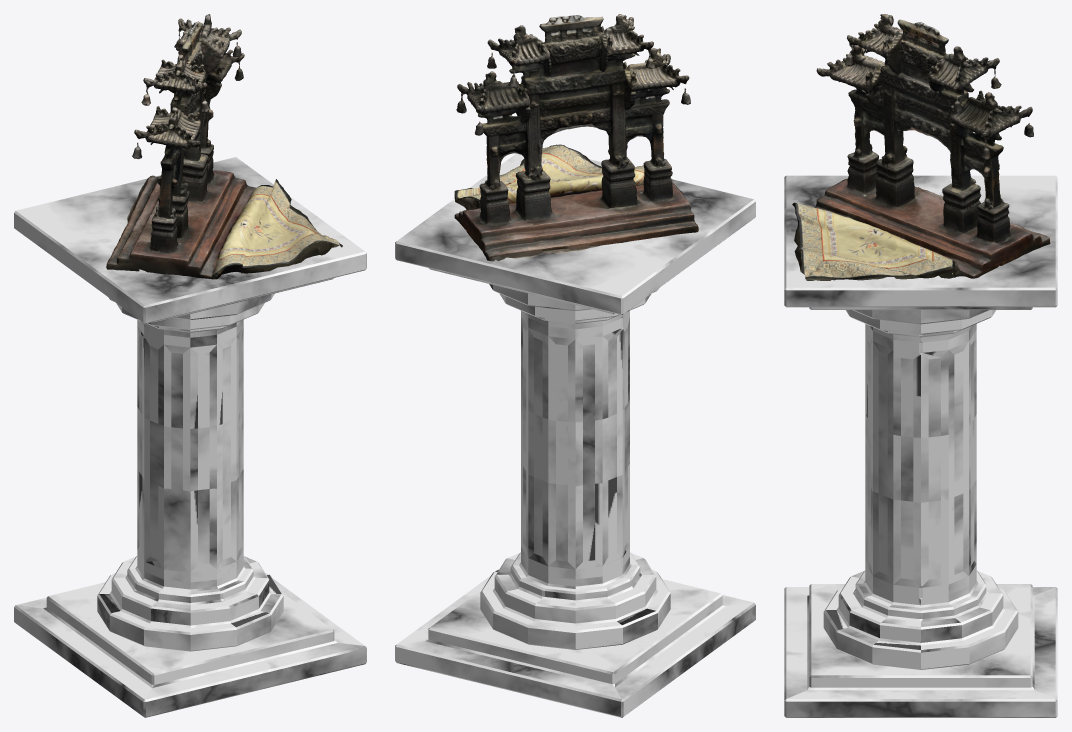
The model's file is arc.glb.
3 views of the same model, side by side, from view 1: azimuth 30°, elevation 25°; view 2: azimuth 150°, elevation 25°; view 3: azimuth 270°, elevation 25° (orthographic). The views are drawn at different scales.
Visible parts, largest first — view 1: Circle_primitive_primitive, Object; view 2: Circle_primitive_primitive, Object; view 3: Circle_primitive_primitive, Object.
Part boxes in pixels (bbox=[...]): Circle_primitive_primitive: bbox=[14, 157, 366, 717]; Object: bbox=[106, 14, 342, 279]; Circle_primitive_primitive: bbox=[395, 147, 755, 717]; Object: bbox=[454, 14, 698, 261]; Circle_primitive_primitive: bbox=[784, 175, 1057, 717]; Object: bbox=[792, 14, 1050, 280].
Bounding box in the file's own units: 0.524 × 1.41 × 0.5324.
Materials: 6 (6 with a texture image).
